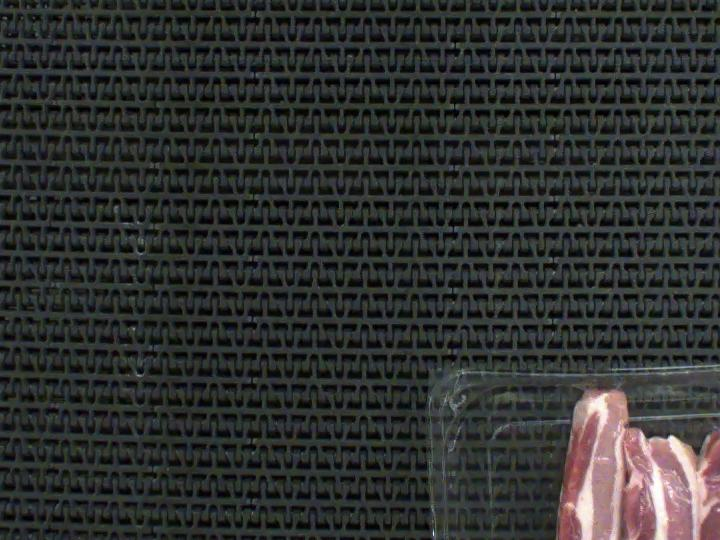packaging-error: (553, 341, 633, 540)
